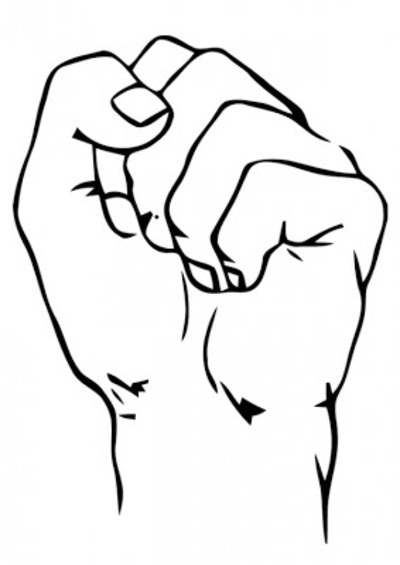closedhandfront: (1, 19, 393, 427)
